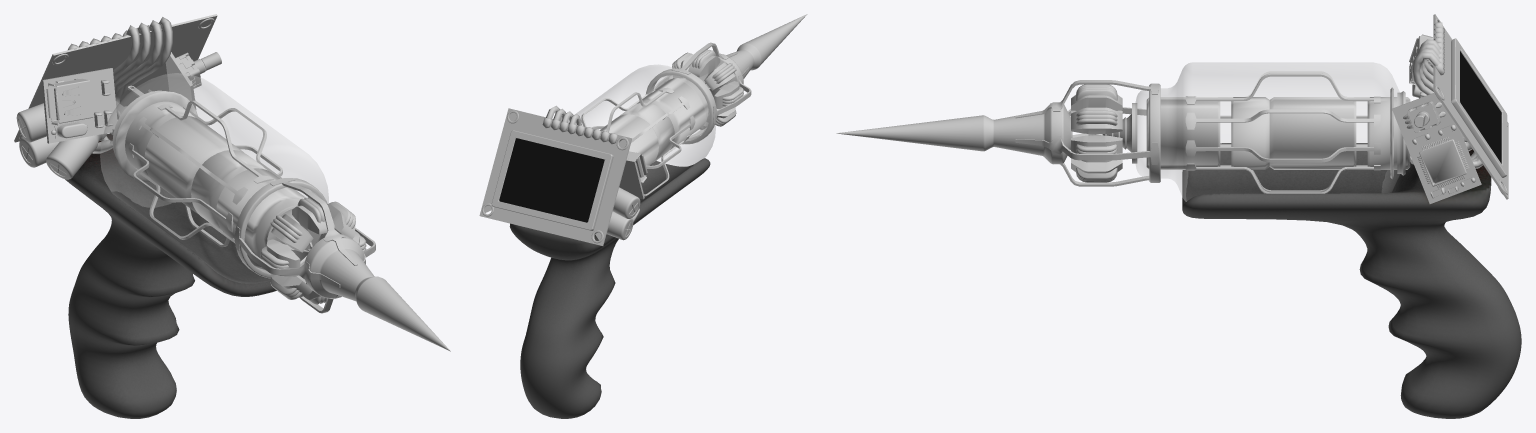
File: raygun.fbx
3 views of the same model, side by side, from view 1: azimuth 30°, elevation 25°; view 2: azimuth 150°, elevation 25°; view 3: azimuth 270°, elevation 25° (orthographic). The views are drawn at different scales.
Visible parts, largest first — view 1: Cylinder; view 2: Cylinder; view 3: Cylinder.
Part boxes in pixels (x1,y1,x2,y2): Cylinder: [14, 14, 450, 418]; Cylinder: [479, 14, 807, 418]; Cylinder: [836, 14, 1521, 418].
Bounding box in the file's own units: 67 × 137 × 229.
